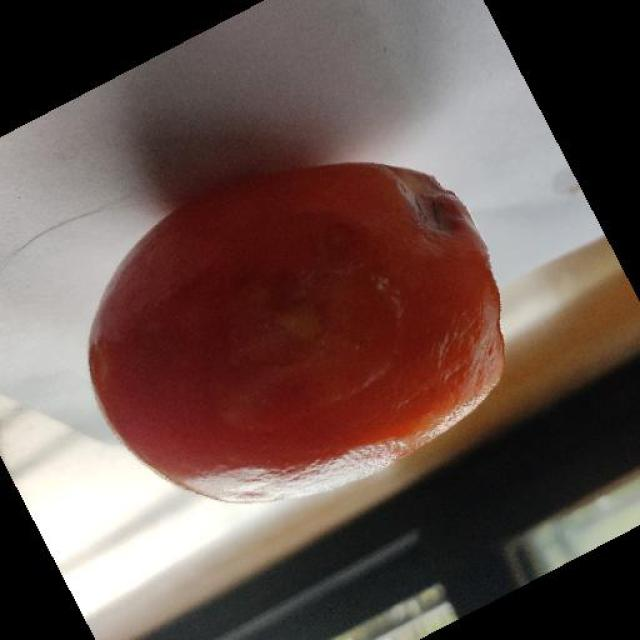Stale_tomato: (62, 189, 516, 486)
